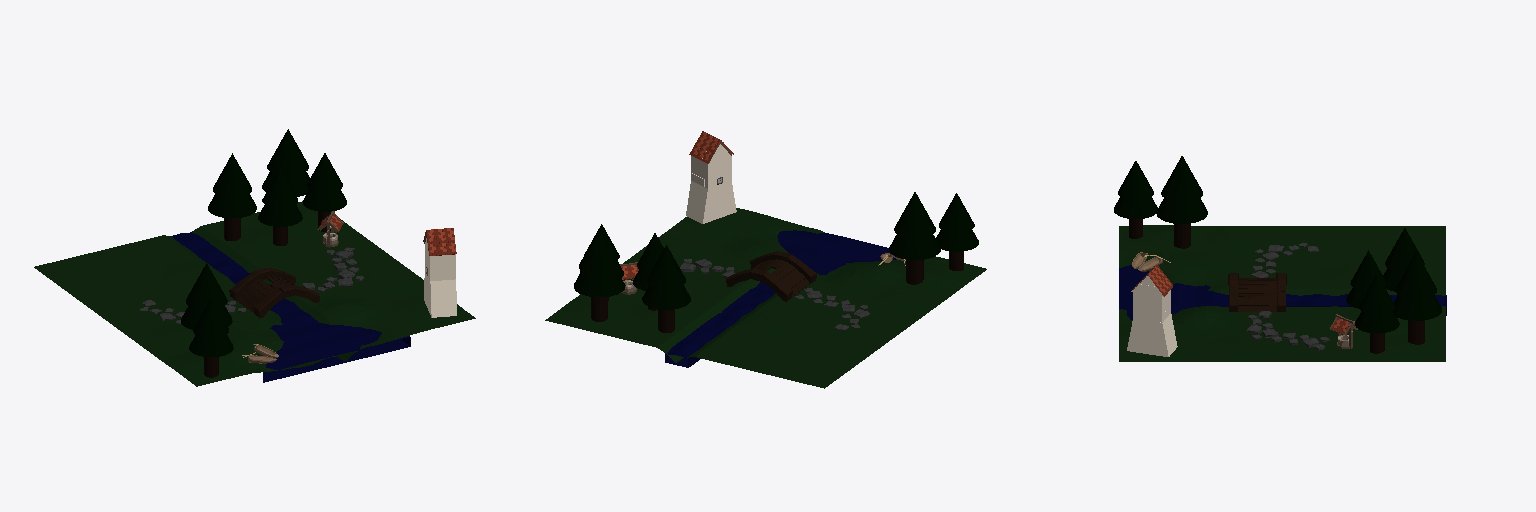
File: hakoniwa.obj
3 renders of one model, left to right at view 1: azimuth 30°, elevation 25°; view 2: azimuth 150°, elevation 25°; view 3: azimuth 270°, elevation 25°, orthographic.
Parts seen in each view (by area): view 1: pPlane1, pCube1, bridge:Mesh, fusya2:group2 group12 fusya2:Stucco_Block:object1, group4 pCone2, group11 pCone2, group2 pCone2, group2 pCone1, group8 pCone2, group10 pCone2, group3 pCone2, group3 pCone1 (+3 smaller); view 2: pPlane1, pCube1, bridge:Mesh, fusya2:group2 group12 fusya2:Stucco_Block:object1, group4 pCone2, group11 pCone2, group11 pCone1, group4 pCone1, group2 pCone2, group2 pCone1, group10 pCone2, fusya2:group2 group12 fusya2:object1 (+2 smaller); view 3: pPlane1, pCube1, bridge:Mesh, fusya2:group2 group12 fusya2:Stucco_Block:object1, group4 pCone2, group11 pCone2, group11 pCone1, group4 pCone1, group8 pCone2, group10 pCone2, group2 pCone2, group10 pCone1 (+3 smaller).
Part boxes in pixels (x1,y1,x2,y2): pPlane1: (34,201,475,386); pCube1: (172,232,410,382); bridge:Mesh: (229,268,319,317); fusya2:group2 group12 fusya2:Stucco_Block:object1: (424,270,456,317); group4 pCone2: (267,129,308,175); group11 pCone2: (186,263,227,309); group2 pCone2: (213,153,251,197); group2 pCone1: (208,194,256,217); group8 pCone2: (307,153,342,192); group10 pCone2: (193,298,228,338); group3 pCone2: (262,168,297,207); group3 pCone1: (258,205,302,226); pPlane1: (545,208,986,388); pCube1: (665,230,896,367); bridge:Mesh: (726,251,816,301); fusya2:group2 group12 fusya2:Stucco_Block:object1: (686,180,736,223); group4 pCone2: (579,229,620,275); group11 pCone2: (894,192,935,237); group11 pCone1: (889,234,940,259); group4 pCone1: (574,271,625,296); group2 pCone2: (647,245,685,288); group2 pCone1: (642,285,690,309); group10 pCone2: (939,193,974,232); fusya2:group2 group12 fusya2:object1: (691,154,731,180); pPlane1: (1119,225,1445,361); pCube1: (1119,265,1446,319); bridge:Mesh: (1228,273,1286,311); fusya2:group2 group12 fusya2:Stucco_Block:object1: (1127,313,1177,356); group4 pCone2: (1395,252,1436,298); group11 pCone2: (1161,156,1202,201); group11 pCone1: (1156,198,1207,223); group4 pCone1: (1393,295,1441,320); group8 pCone2: (1359,274,1394,314); group10 pCone2: (1118,161,1153,199); group2 pCone2: (1385,228,1424,271); group10 pCone1: (1114,197,1157,218).
Size of the model in its own units: 28.73 by 10.4 by 29.62.